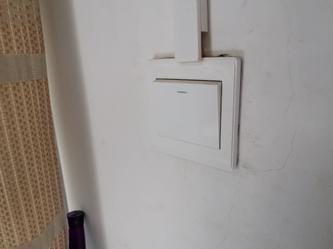switch: (150, 73, 223, 149)
